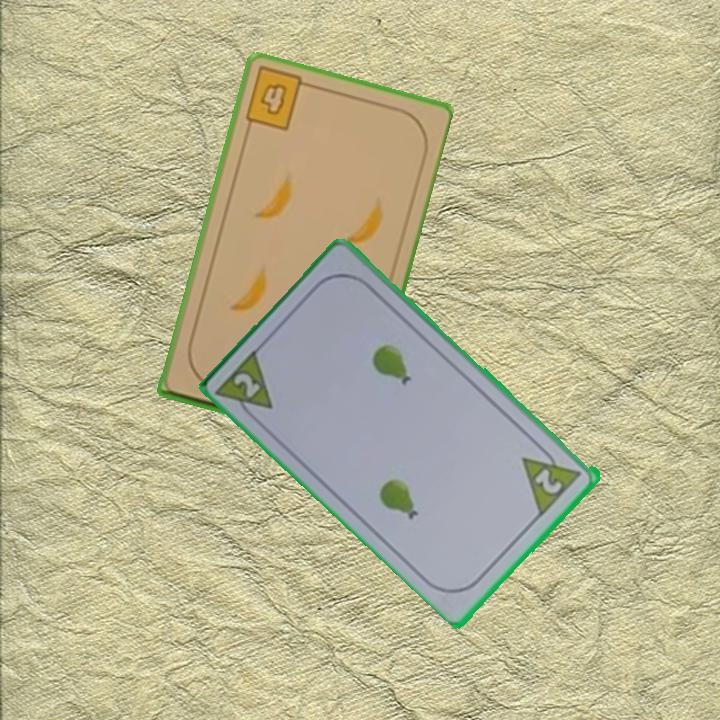2p: (531, 464, 566, 498), (230, 369, 264, 401)
4b: (241, 64, 314, 134)
